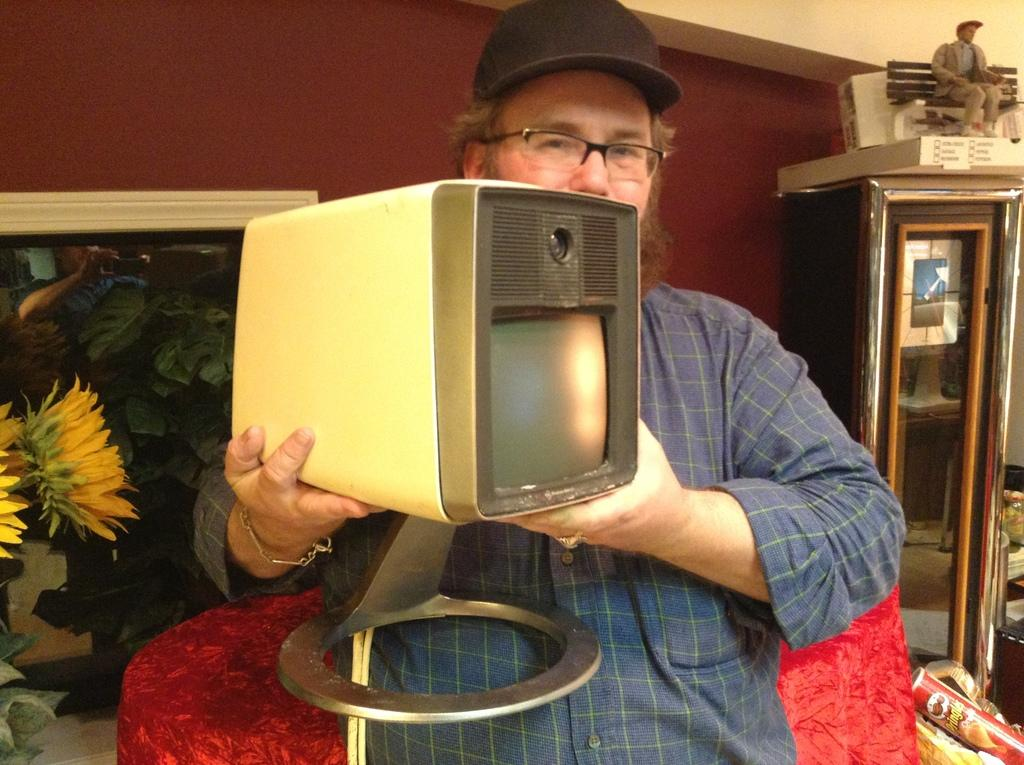Hat: (468, 0, 684, 119)
